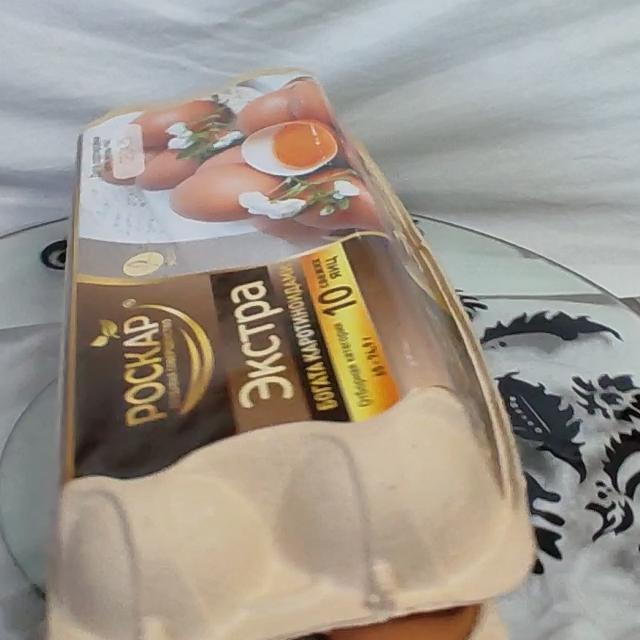egg: (40, 60, 535, 640)
